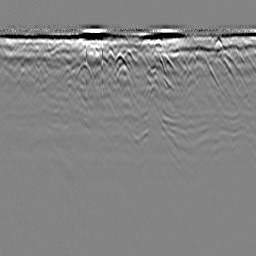cavity: (124, 45, 137, 63)
